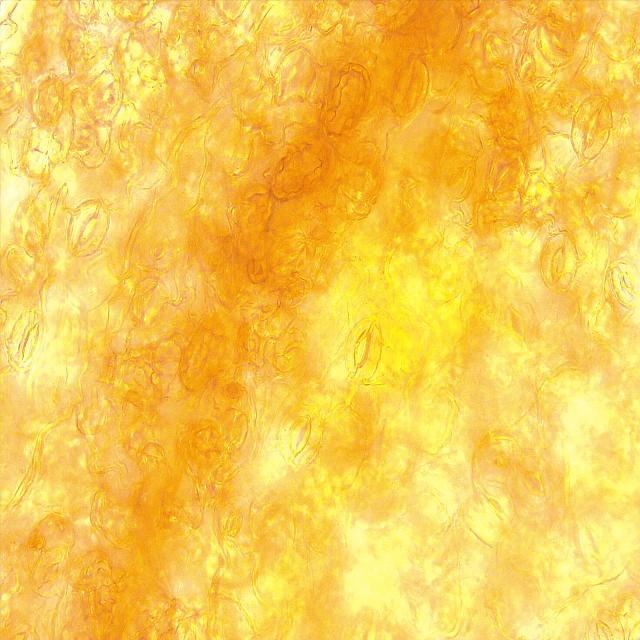Stomata: (65, 195, 111, 260), (570, 93, 612, 163), (5, 307, 48, 370), (279, 408, 324, 468), (345, 316, 383, 384), (539, 233, 579, 292), (537, 11, 576, 69), (512, 455, 553, 510), (30, 547, 68, 597), (607, 258, 640, 305), (272, 330, 308, 372), (585, 608, 626, 640)
